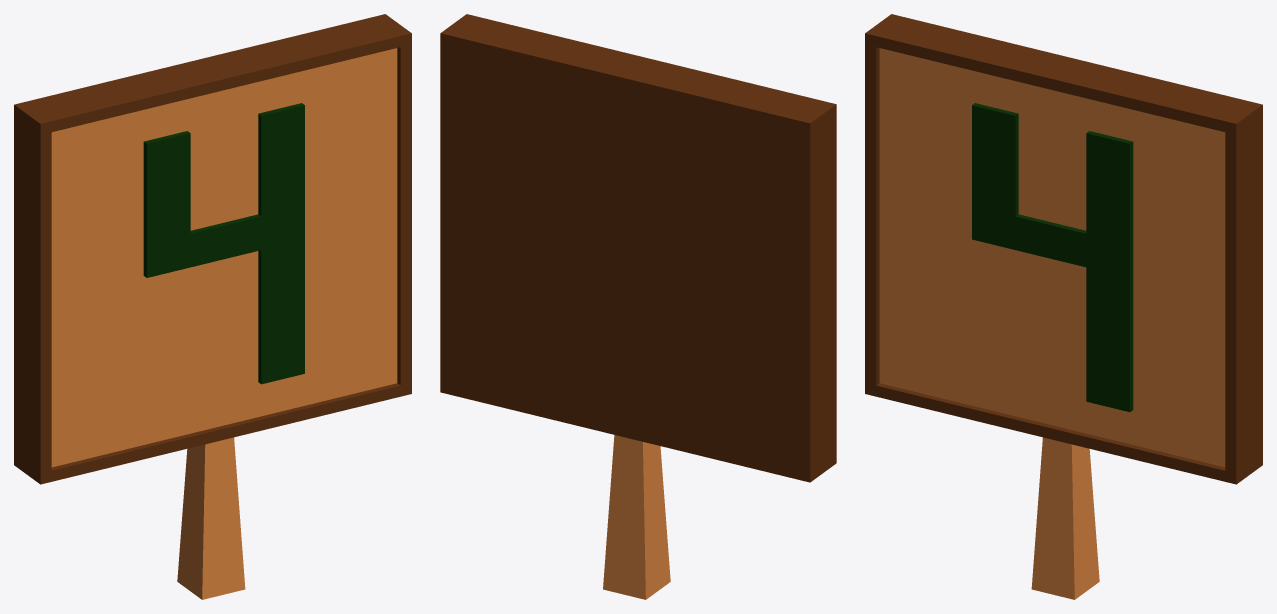
The model's file is Sign_4.fbx.
3 renders of one model, left to right at view 1: azimuth 30°, elevation 25°; view 2: azimuth 150°, elevation 25°; view 3: azimuth 330°, elevation 25°, orthographic.
Parts seen in each view (by area): view 1: Cube; view 2: Cube; view 3: Cube.
Boxes of the visible parts, bbox=[...] form: Cube: bbox=[14, 14, 411, 599]; Cube: bbox=[440, 14, 836, 599]; Cube: bbox=[865, 14, 1262, 599].
Bounding box in the file's own units: 171 × 228 × 21.86.
